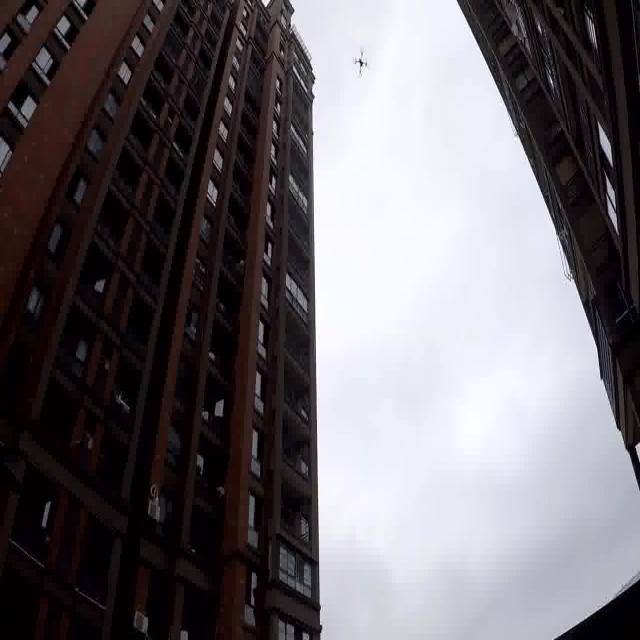drone: (351, 44, 370, 82)
